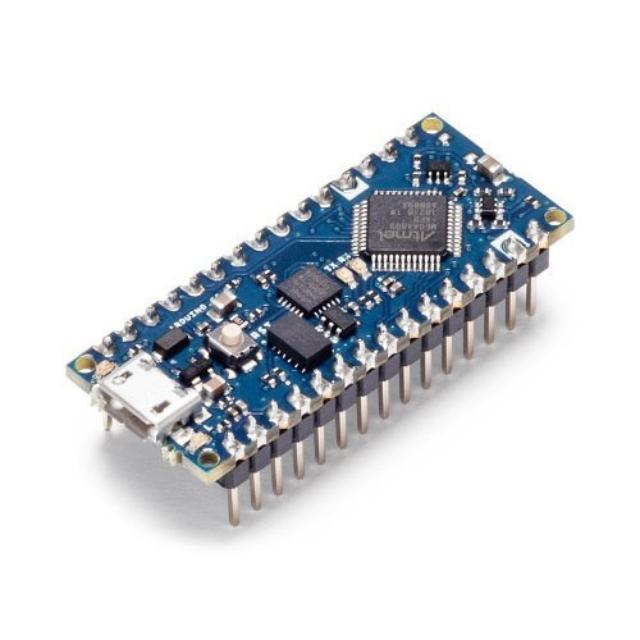Arduino-Nano: (67, 115, 573, 492)
